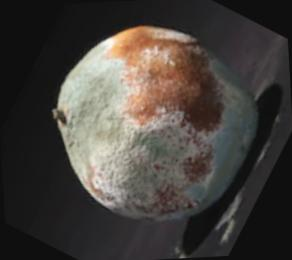Orange Rotten: (32, 11, 277, 235)
